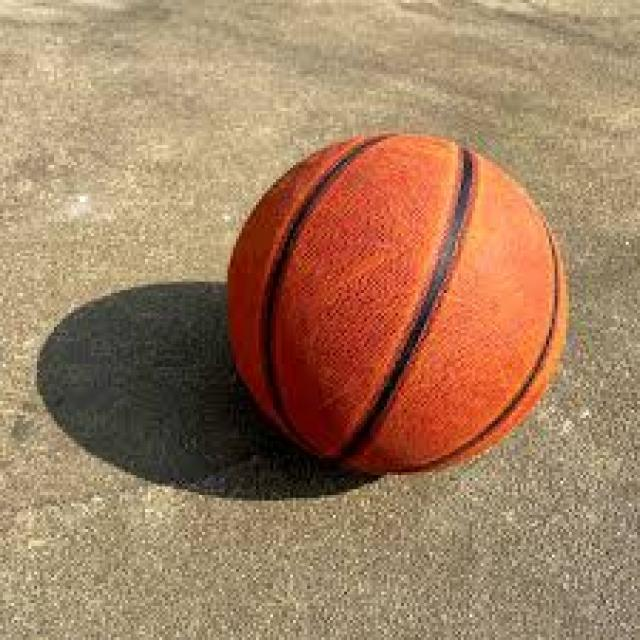rim: (236, 122, 572, 486)
